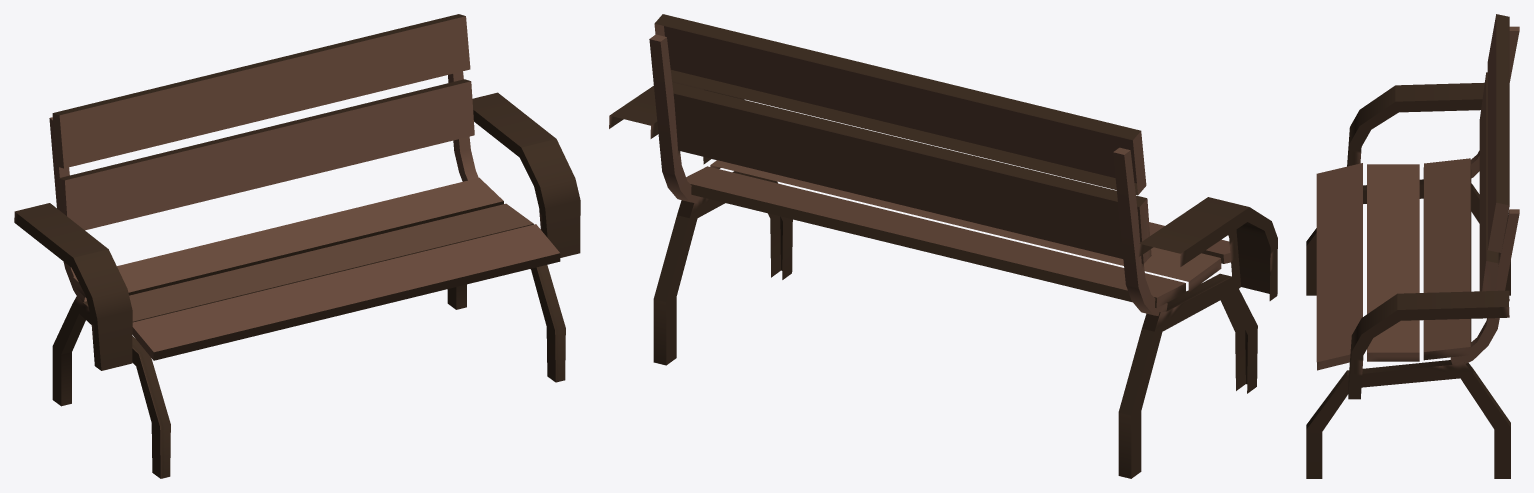
File: Bench_Animation.fbx
3 views of the same model, side by side, from view 1: azimuth 30°, elevation 25°; view 2: azimuth 150°, elevation 25°; view 3: azimuth 270°, elevation 25° (orthographic). The views are drawn at different scales.
Visible parts, largest first — view 1: bench; view 2: bench; view 3: bench.
Part boxes in pixels (x1=…): bench: x1=14, y1=14, x2=580, y2=478; bench: x1=609, y1=14, x2=1277, y2=478; bench: x1=1306, y1=14, x2=1519, y2=478.
Size of the model in its own units: 1.55 by 0.8881 by 0.6203.
